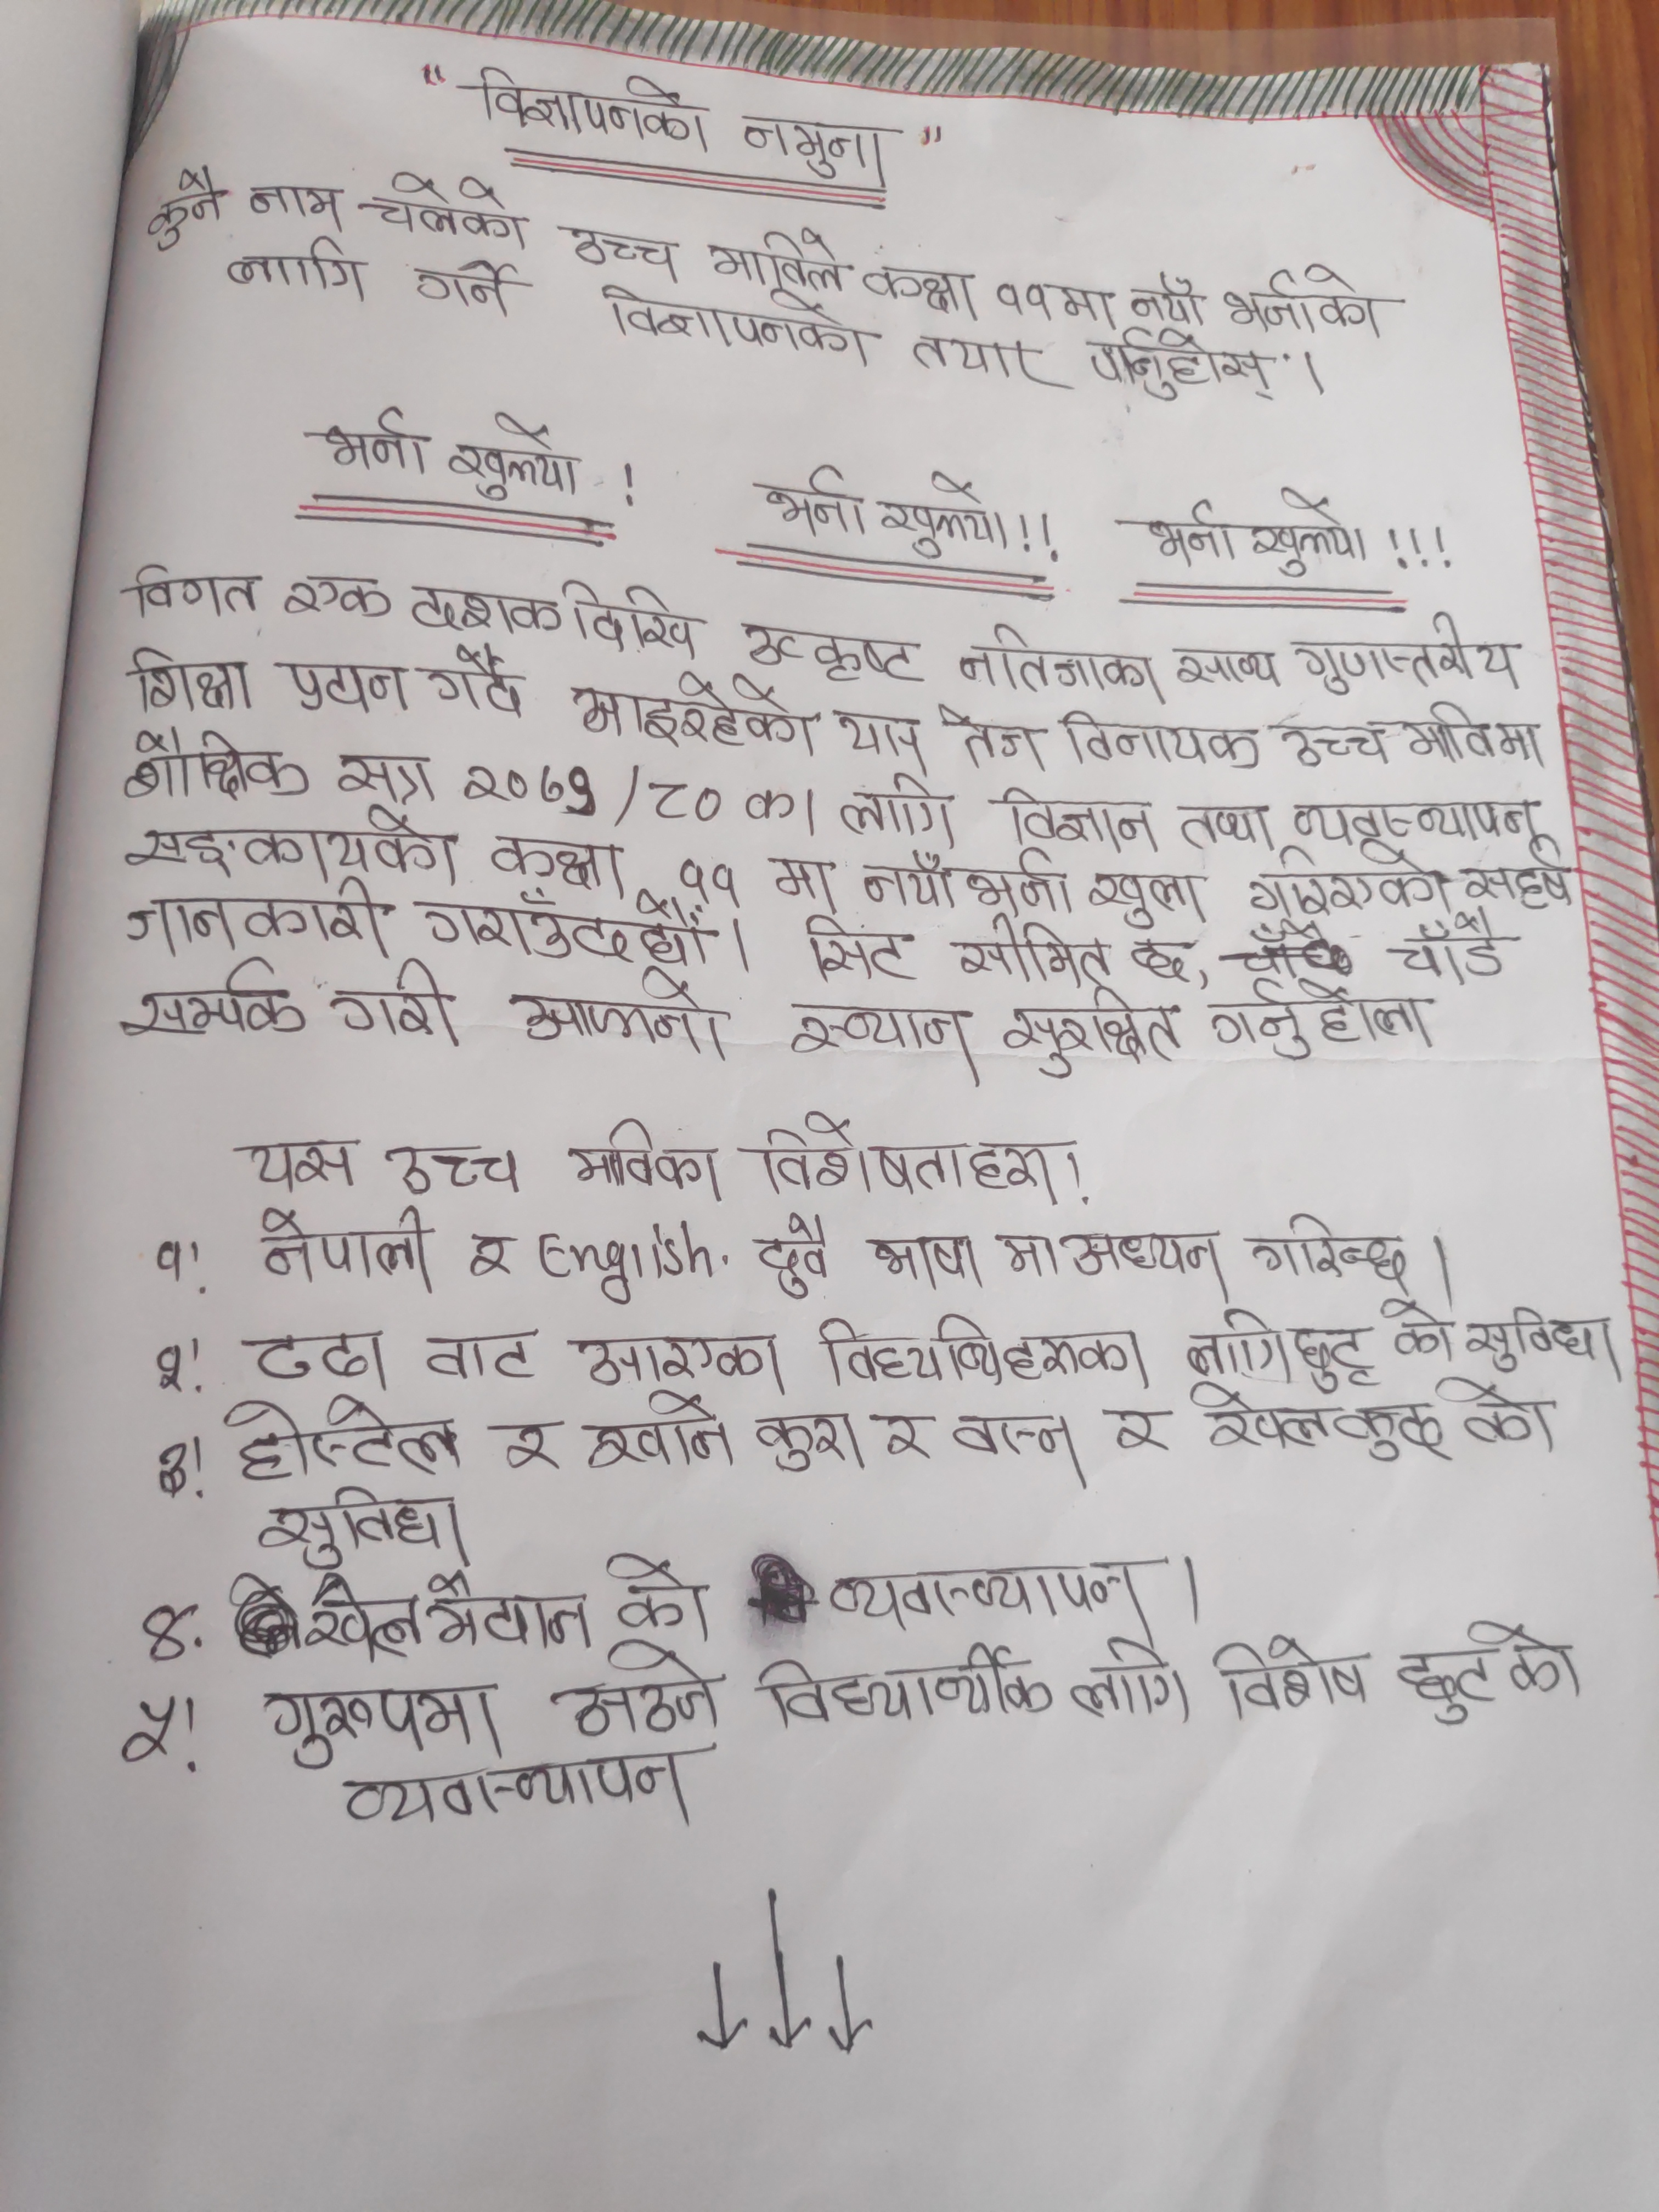text: (338, 1756, 708, 1834), (760, 1111, 1068, 1204), (119, 805, 460, 885), (758, 1641, 1054, 1730), (810, 1317, 1155, 1392), (464, 57, 711, 160), (1187, 1372, 1455, 1465), (589, 282, 878, 366), (824, 1555, 1154, 1629), (415, 890, 723, 967), (256, 1672, 512, 1763), (563, 671, 816, 756), (1290, 604, 1521, 697), (221, 1395, 471, 1480), (1387, 1620, 1588, 1723), (505, 970, 730, 1059), (113, 880, 396, 949), (1211, 979, 1438, 1061), (992, 1219, 1227, 1296), (957, 620, 1171, 702), (251, 1489, 471, 1566), (420, 1562, 591, 1660), (782, 998, 981, 1080), (1187, 1312, 1387, 1392), (1002, 991, 1185, 1078), (1248, 841, 1457, 916), (122, 956, 305, 1042), (254, 1207, 436, 1292), (563, 1639, 721, 1737), (568, 1322, 784, 1390), (1089, 329, 1276, 406), (735, 617, 932, 688), (1056, 702, 1262, 770), (127, 732, 315, 805), (1204, 1639, 1375, 1719), (535, 1223, 721, 1296), (1286, 794, 1544, 846), (579, 1388, 742, 1468), (450, 408, 584, 503), (298, 1568, 432, 1663), (566, 1120, 723, 1200), (992, 780, 1161, 853), (354, 172, 526, 244), (735, 110, 897, 183), (561, 578, 701, 662), (875, 475, 1012, 559), (1222, 265, 1385, 334), (1256, 1214, 1420, 1284), (1455, 1301, 1617, 1371), (1073, 1637, 1197, 1726), (329, 961, 464, 1043), (606, 1548, 716, 1646), (410, 578, 561, 648), (486, 824, 638, 894), (1249, 491, 1370, 578), (950, 918, 1110, 982), (1398, 700, 1547, 768), (1431, 1378, 1565, 1453), (124, 643, 261, 714), (711, 223, 856, 291), (246, 1324, 396, 1388), (1384, 914, 1525, 982), (957, 1409, 1087, 1480), (904, 331, 1072, 387), (274, 655, 410, 723), (457, 752, 598, 817), (218, 239, 369, 298), (301, 409, 430, 477), (798, 914, 927, 982), (237, 1130, 366, 1198), (758, 465, 875, 538), (119, 564, 267, 622), (420, 643, 528, 721), (842, 773, 957, 846), (749, 1409, 870, 1479), (866, 1219, 988, 1287), (387, 1143, 526, 1202), (401, 256, 525, 317), (136, 167, 225, 251), (1124, 500, 1241, 563), (749, 1211, 835, 1296), (965, 845, 1075, 911), (335, 738, 441, 806), (1082, 871, 1211, 927), (1460, 855, 1581, 911), (558, 225, 694, 273), (856, 261, 981, 314), (1279, 716, 1389, 775), (242, 167, 342, 230), (422, 1329, 540, 1381), (953, 716, 1054, 775), (281, 568, 390, 620), (1178, 796, 1279, 852), (861, 853, 962, 909), (836, 707, 929, 768), (1387, 1292, 1459, 1371), (1171, 648, 1286, 695), (486, 1414, 566, 1479), (765, 852, 843, 914), (1101, 1397, 1180, 1460), (647, 773, 732, 826), (1126, 270, 1209, 322), (1124, 932, 1199, 982), (875, 1411, 936, 1472), (749, 782, 819, 833), (1054, 280, 1115, 331), (462, 1230, 516, 1285), (993, 273, 1054, 322), (683, 853, 739, 902)
